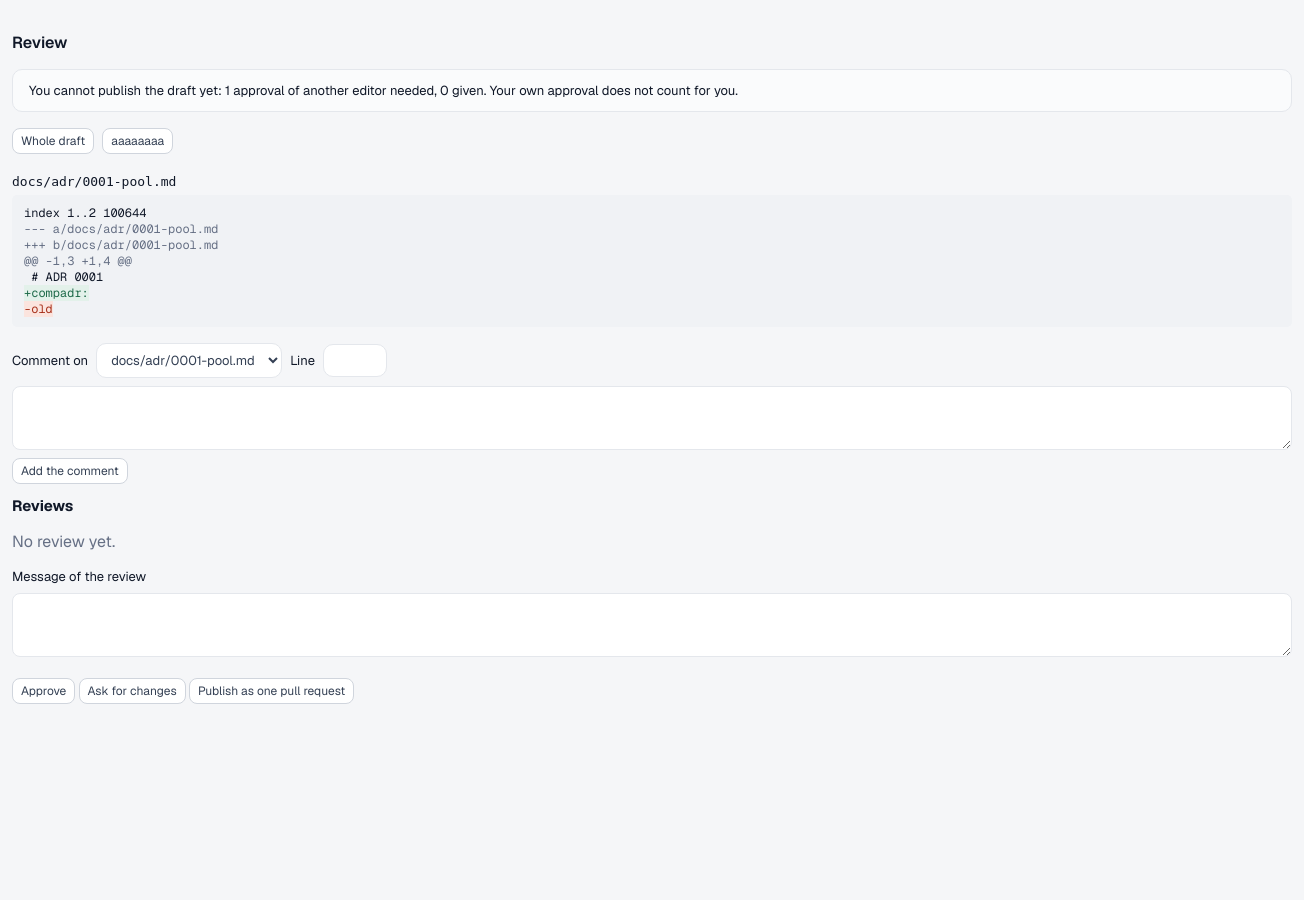
it: DraftReview › comments a line of a file
Type "3" into the field labelled "Line".
click(355, 360); type("3")  # box [323,344,387,377]
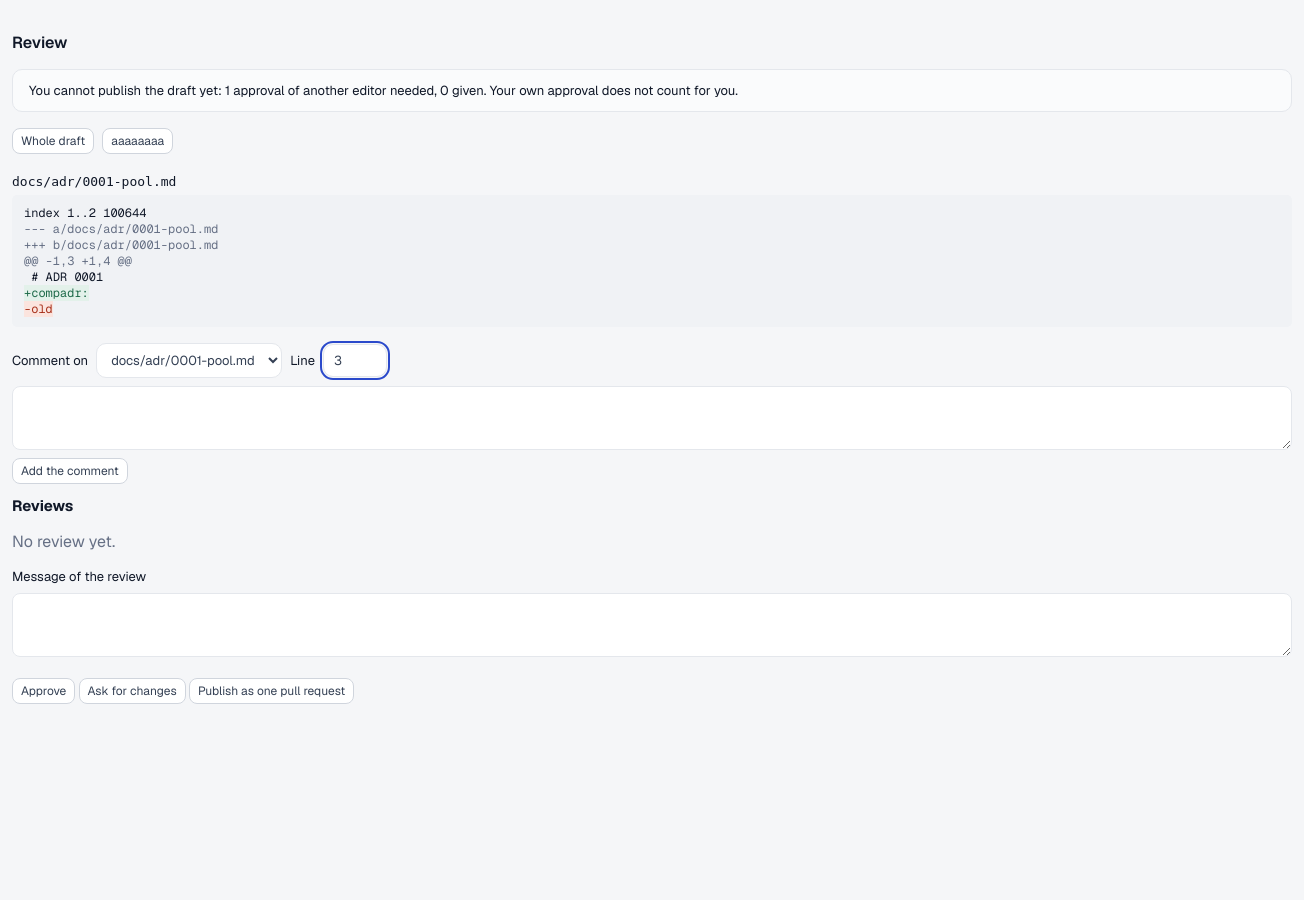
Type "Fine." into the text box named "Comment".
click(652, 418); type("Fine.")  # box [12,386,1292,450]
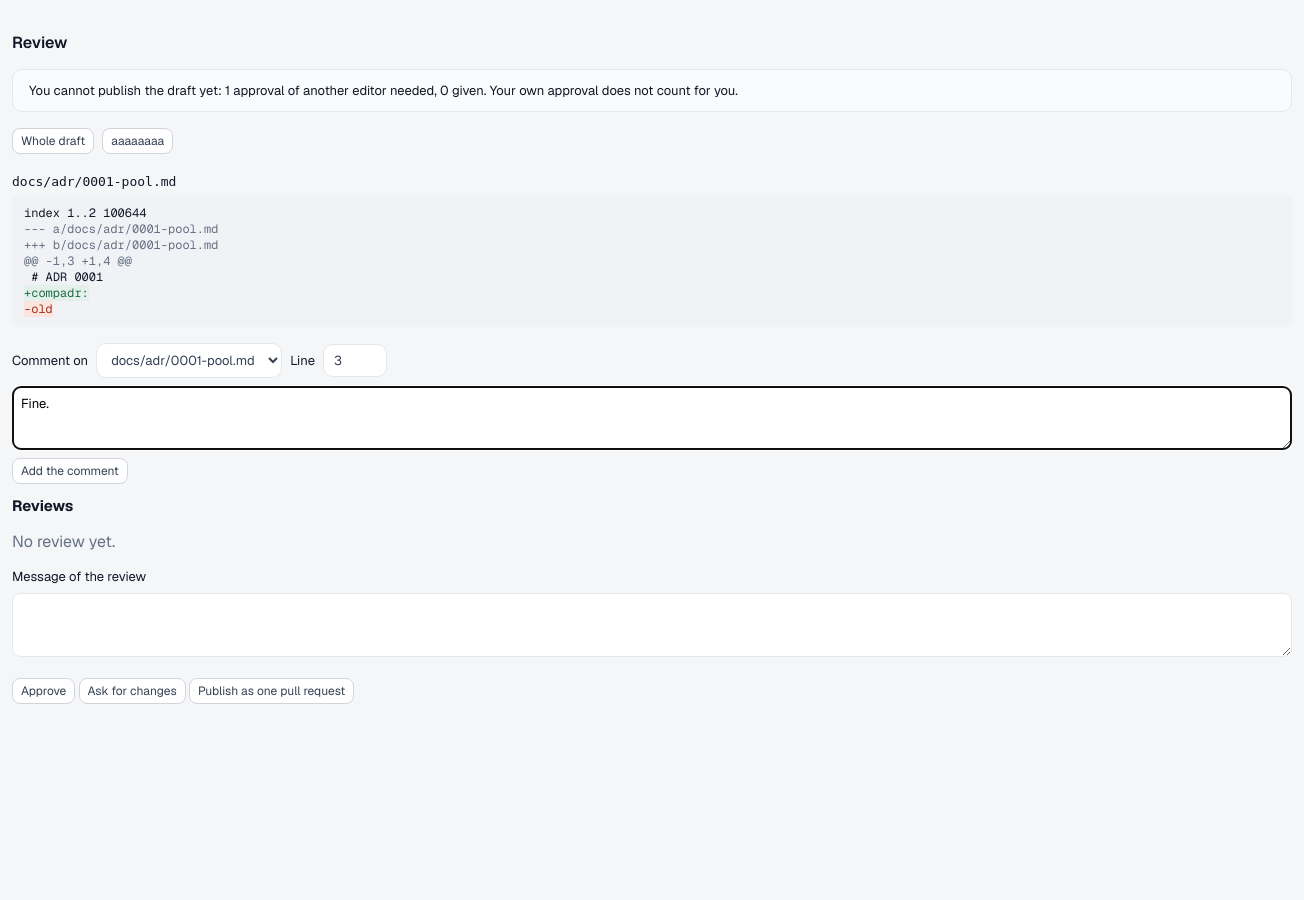
Click the button "Add the comment".
click(70, 471)  # box [12,458,128,484]
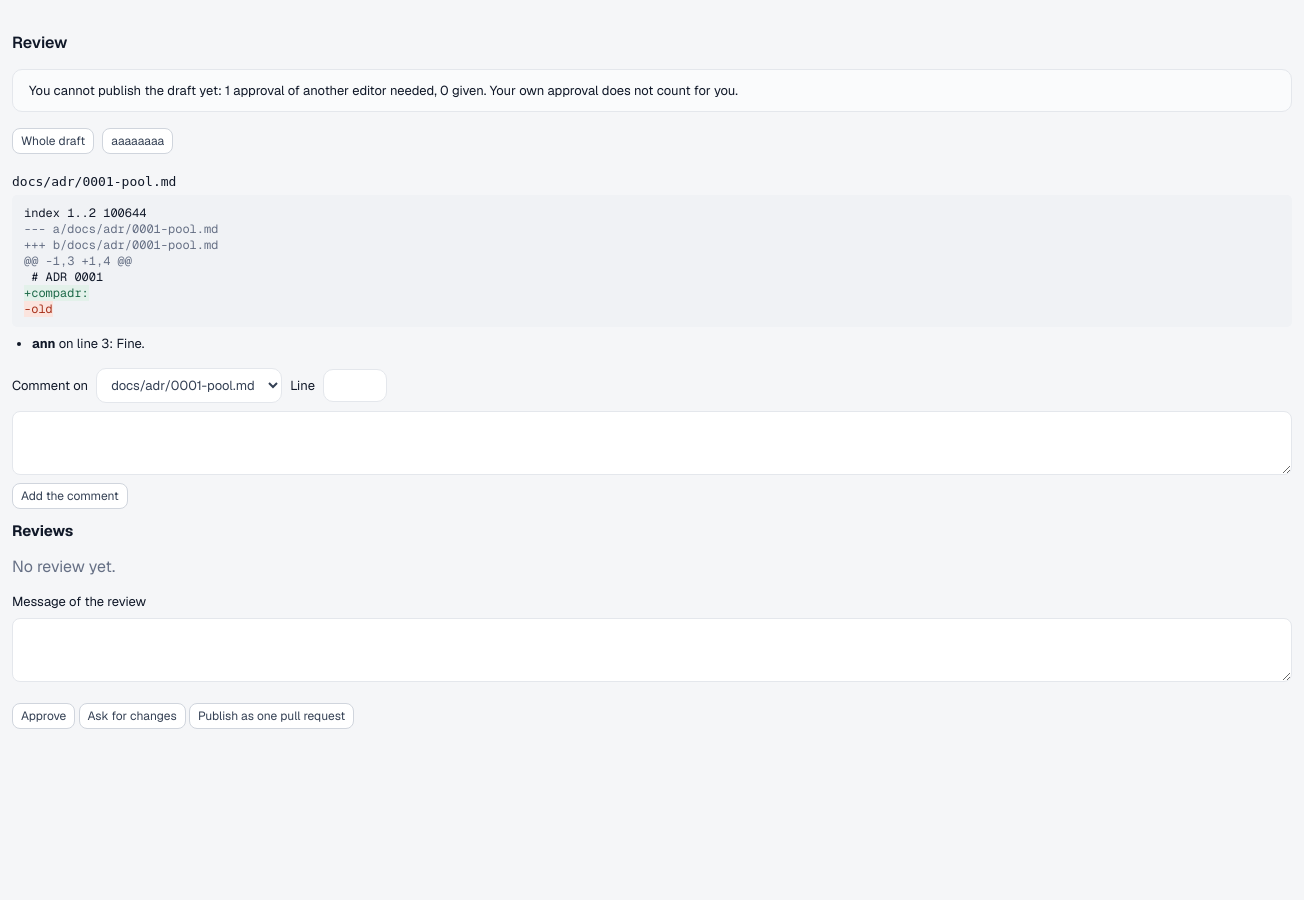
Result: the list item reads "ann on line 3: Fine." at [32,335,144,352]
